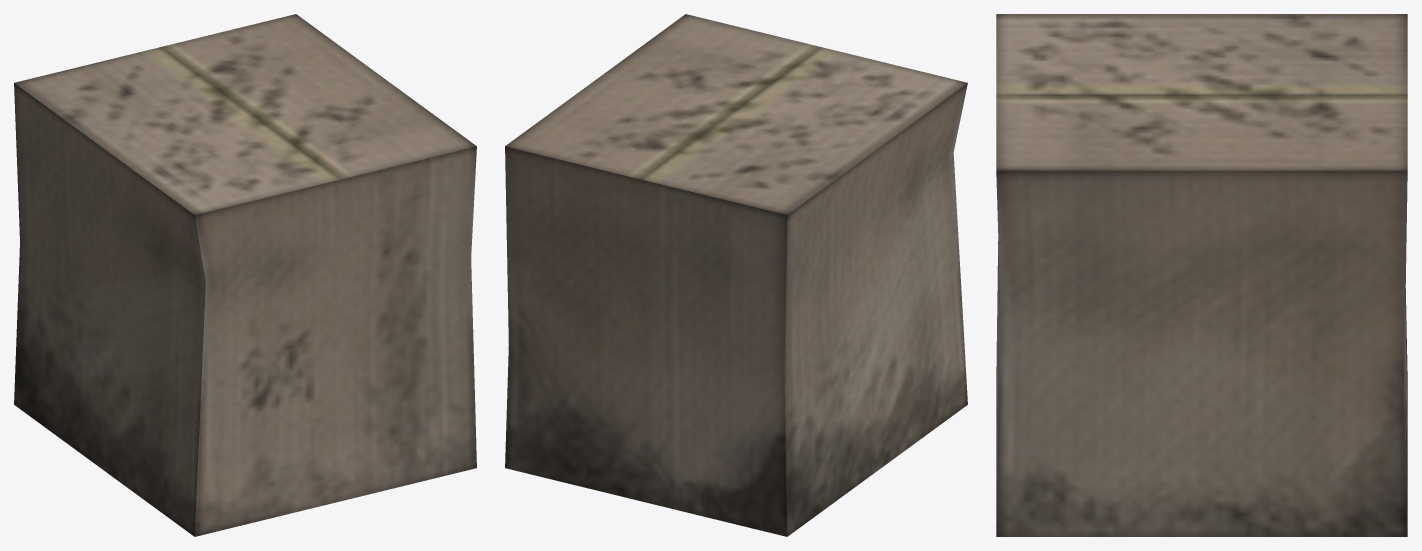
Rendered from carton_cube.fbx.
3 views of the same model, side by side, from view 1: azimuth 30°, elevation 25°; view 2: azimuth 150°, elevation 25°; view 3: azimuth 270°, elevation 25° (orthographic). The views are drawn at different scales.
Visible parts, largest first — view 1: pCube84; view 2: pCube84; view 3: pCube84.
Part boxes in pixels (x1,y1,x2,y2): pCube84: (14,14,476,536); pCube84: (505,14,967,536); pCube84: (996,14,1407,536).
Size of the model in its own units: 61.7 by 67.23 by 68.43.
